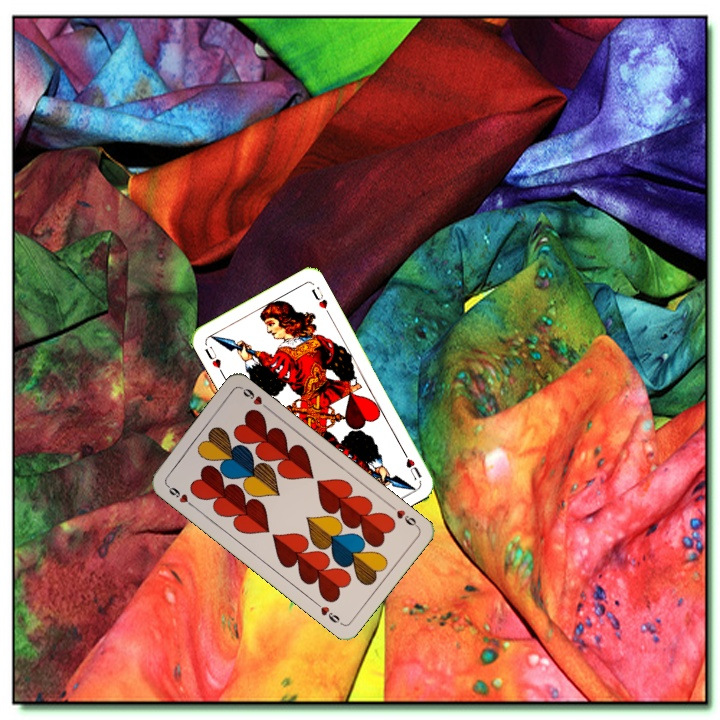H9: (386, 501, 421, 530), (162, 481, 197, 510)
HU: (398, 446, 424, 483), (200, 342, 226, 377)
